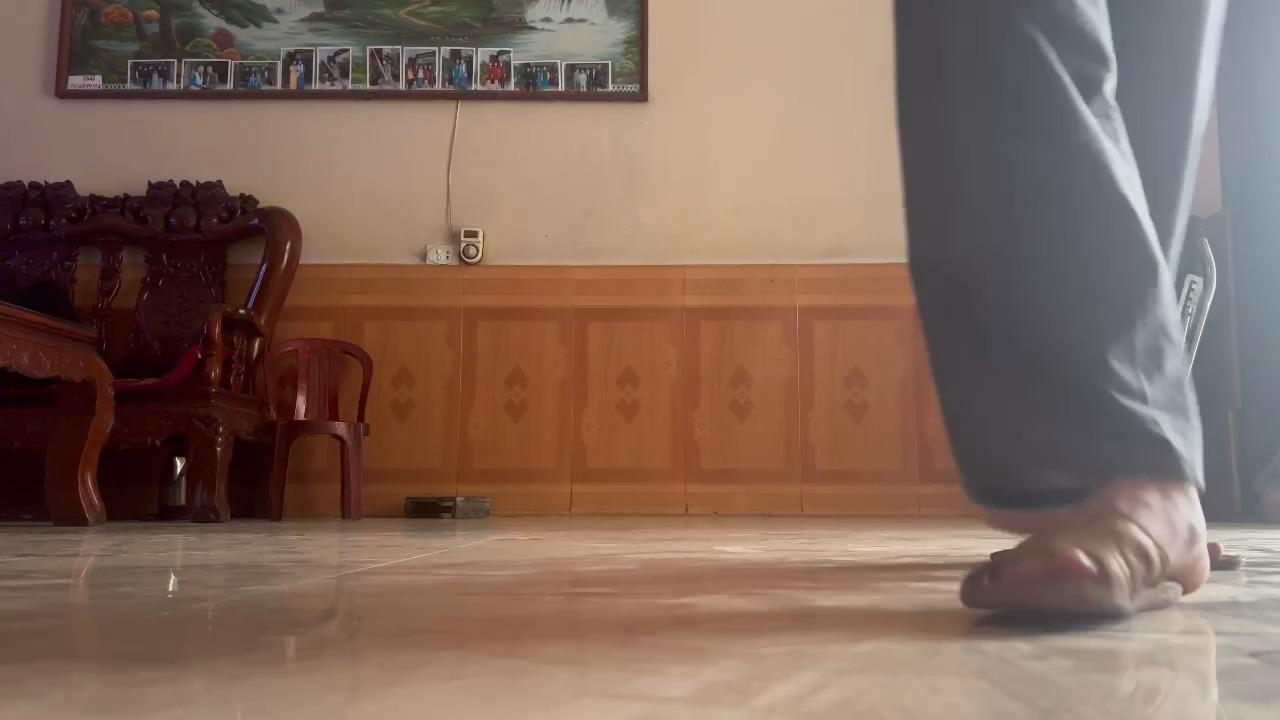no-boot: (953, 482, 1214, 629)
